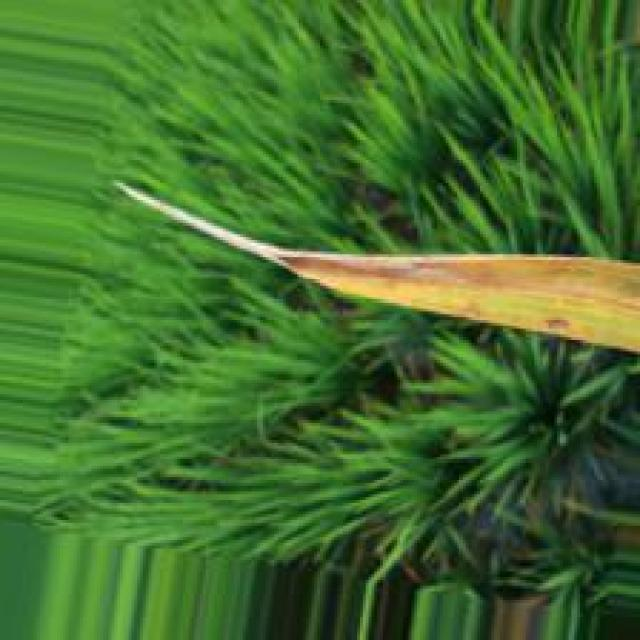Bacterial_Leaf_Blight: (280, 256, 639, 351)
